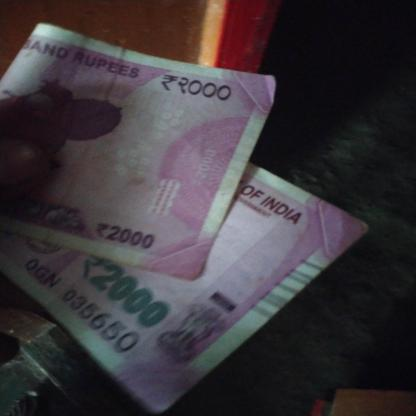New2000Back: (0, 29, 249, 262)
